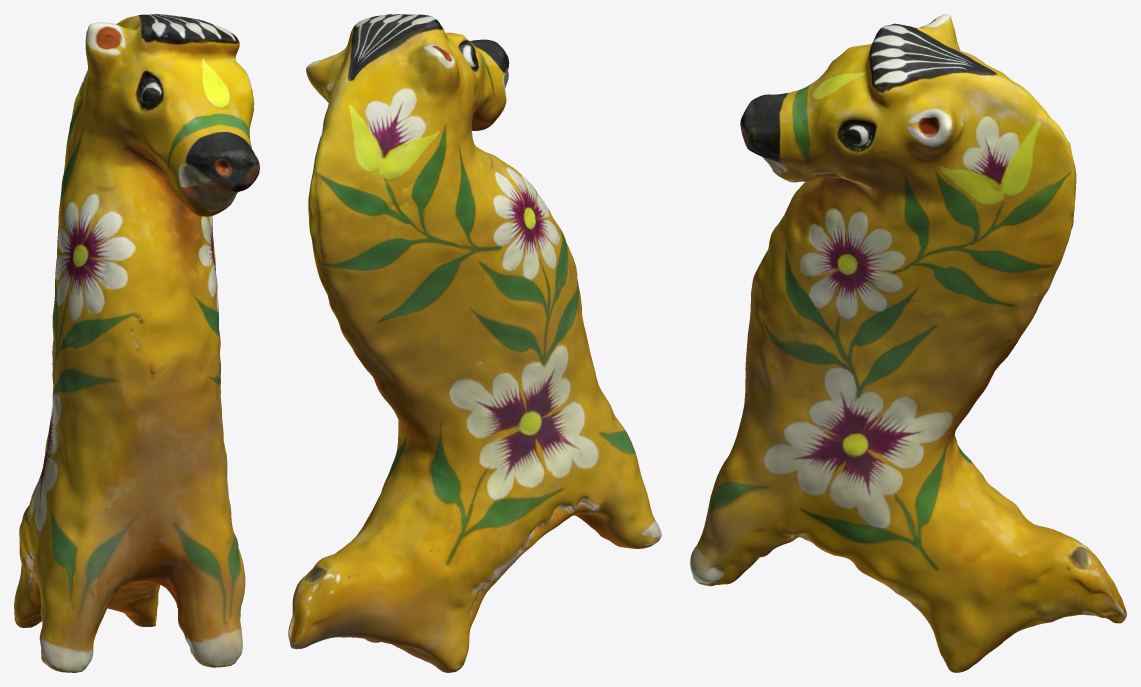
The picture shows the model from 3 angles, left to right: view 1: azimuth 30°, elevation 25°; view 2: azimuth 150°, elevation 25°; view 3: azimuth 270°, elevation 25°; orthographic projection. The views are drawn at different scales.
Bounding box in the file's own units: 0.4313 × 0.9403 × 0.5874.
1 material, 1 textured.
